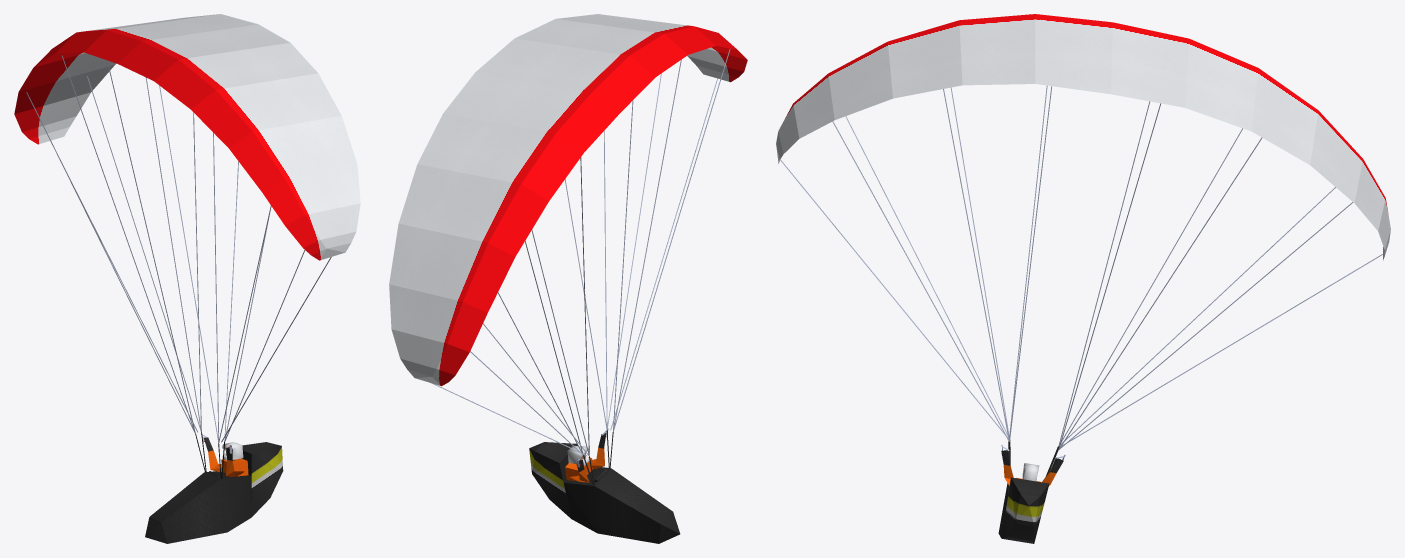
The model's file is paraglider-red-ridge-cbj_LOD02.gltf.
The picture shows the model from 3 angles, left to right: view 1: azimuth 30°, elevation 25°; view 2: azimuth 150°, elevation 25°; view 3: azimuth 270°, elevation 25°; orthographic projection. The views are drawn at different scales.
Visible parts, largest first — view 1: glider00; view 2: glider00; view 3: glider00.
Part boxes in pixels (box(x1,y1,x2,y2)): glider00: box(14, 14, 360, 543); glider00: box(389, 14, 747, 543); glider00: box(776, 14, 1390, 543).
Size of what is drawn, in the model's own units: 2.86 by 8.27 by 9.06.
